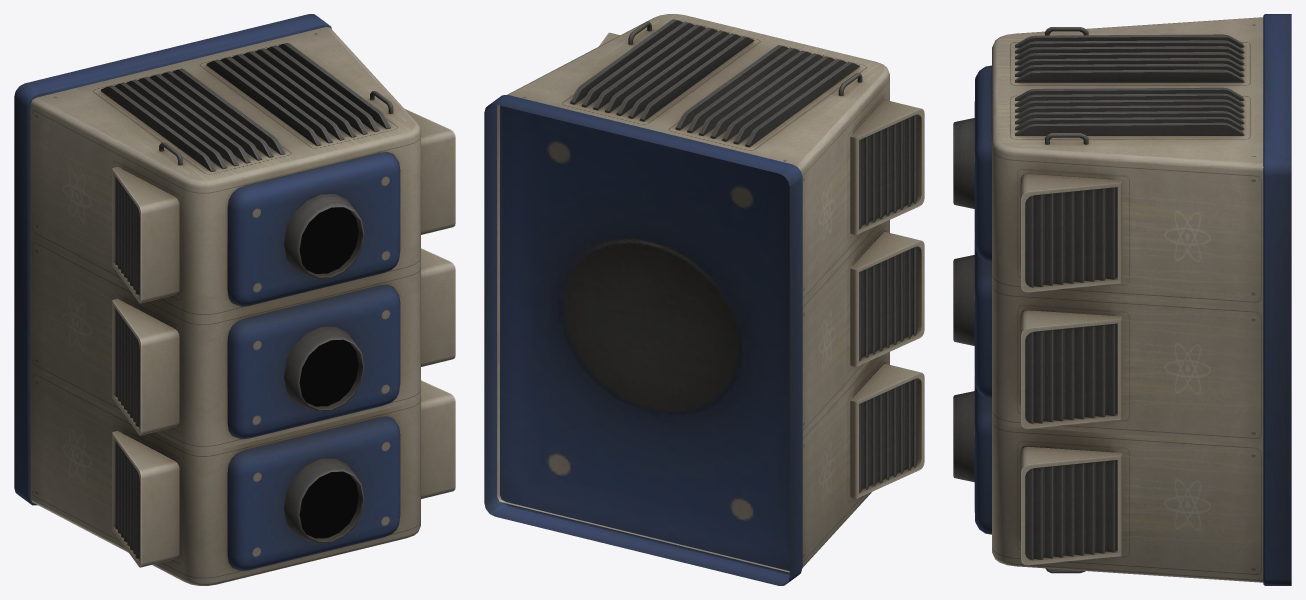
The model's file is nt_generator_blue_LOD0.obj.
3 renders of one model, left to right at view 1: azimuth 30°, elevation 25°; view 2: azimuth 150°, elevation 25°; view 3: azimuth 270°, elevation 25°, orthographic. The views are drawn at different scales.
Visible parts, largest first — view 1: mtl_nt_generator_blue, mtl_p6_fan_standing_modern_on; view 2: mtl_nt_generator_blue; view 3: mtl_nt_generator_blue.
Part boxes in pixels (x1,y1,x2,y2): mtl_nt_generator_blue: (14,14,455,585); mtl_p6_fan_standing_modern_on: (299,207,358,538); mtl_nt_generator_blue: (484,14,924,585); mtl_nt_generator_blue: (953,14,1291,585).
Bounding box in the file's own units: 293 × 379 × 264.
